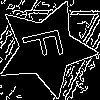F: (21, 24, 74, 64)
